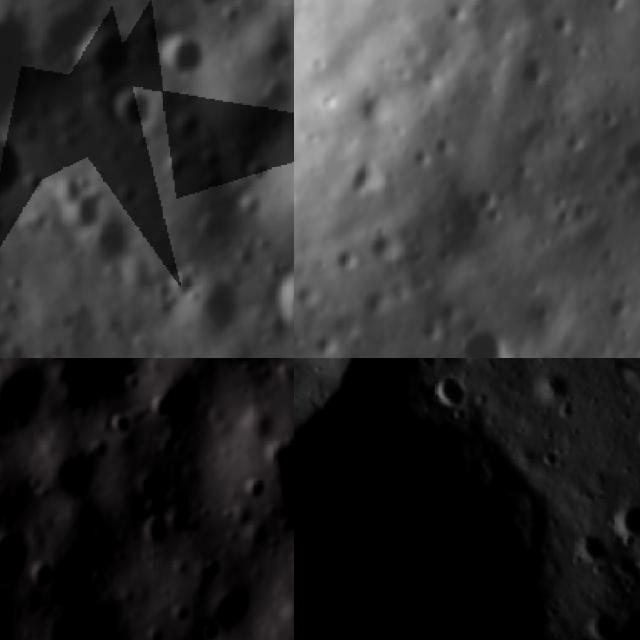crater: (294, 358, 640, 640), (245, 394, 294, 546), (0, 0, 51, 116), (70, 18, 140, 92), (81, 204, 142, 283), (46, 170, 110, 244), (422, 360, 488, 426), (0, 358, 48, 445), (526, 362, 588, 426), (188, 276, 249, 340), (107, 79, 167, 139), (40, 604, 134, 640), (40, 449, 93, 512), (596, 489, 640, 558), (570, 530, 620, 581), (121, 468, 170, 519), (580, 599, 636, 640), (269, 267, 294, 358), (0, 131, 31, 204), (166, 35, 210, 84), (456, 323, 515, 358), (346, 152, 388, 197), (136, 13, 182, 54), (0, 540, 38, 589), (517, 50, 559, 89), (366, 230, 405, 265), (30, 560, 64, 599), (601, 292, 636, 323), (329, 242, 362, 273), (548, 8, 581, 34), (619, 136, 640, 176), (468, 183, 499, 209), (570, 194, 598, 221), (547, 207, 578, 231), (628, 413, 640, 462), (151, 348, 194, 358)
